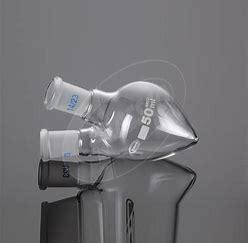Pear shaped flask: (38, 70, 203, 171)
